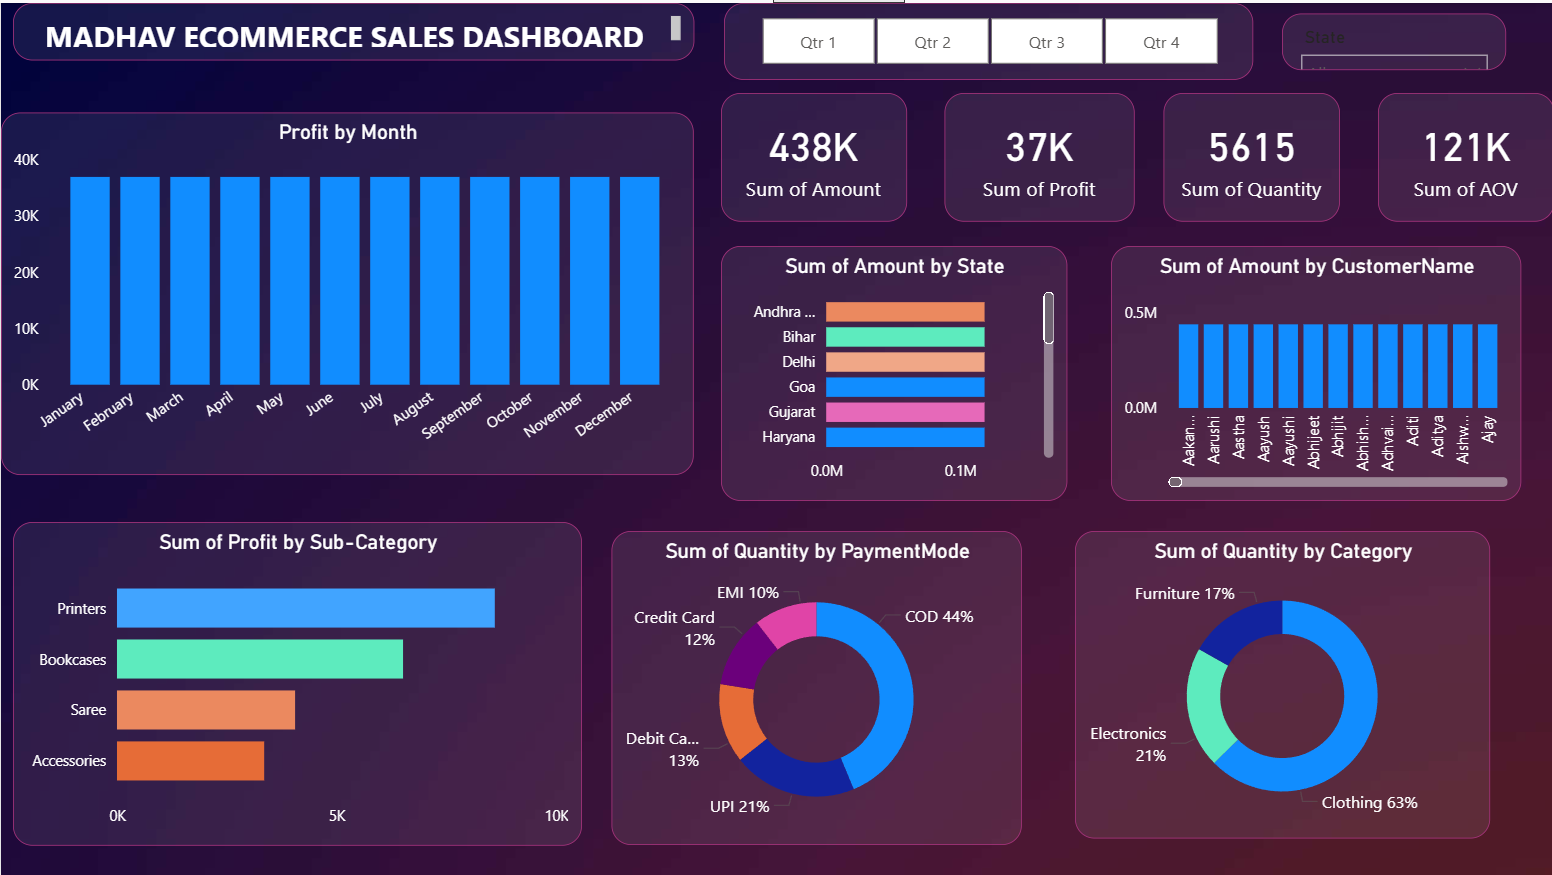

What the dashboard file says about the page in this screenshot:
{"tool":"powerbi","page":{"name":"Page 1","canvas":[1280,720],"ordinal":0},"visuals":[{"type":"textbox","box":[9.4,0,561.3,47.2],"z":0},{"type":"columnChart","title":"Profit by Month","fields":{"Y":["Details.Profit"],"Category":["Orders.Clean data.Variation.Date Hierarchy.Month"]},"box":[0,90.7,570.7,298.6],"z":1000},{"type":"barChart","fields":{"Category":["Details.Sub-Category"],"Y":["Details.Profit"]},"box":[9.4,427.1,468.7,266.5],"z":2000},{"type":"donutChart","fields":{"Category":["Details.Category"],"Y":["Details.Quantity"]},"box":[884.4,434.6,342,253.2],"z":3000},{"type":"donutChart","fields":{"Y":["Details.Quantity"],"Category":["Details.PaymentMode"]},"box":[502.7,434.6,338.3,258.9],"z":4000},{"type":"card","fields":{"Values":["Details.Amount"]},"box":[593.4,73.7,153.1,105.8],"z":5000},{"type":"card","fields":{"Values":["Details.Profit"]},"box":[776.7,73.7,156.9,105.8],"z":6000},{"type":"card","fields":{"Values":["Details.Quantity"]},"box":[958.1,73.7,145.5,105.8],"z":7000},{"type":"card","fields":{"Values":["Details.AOV"]},"box":[1133.9,73.7,145.5,105.8],"z":8000},{"type":"barChart","fields":{"Category":["Orders.State"],"Y":["Details.Amount"]},"box":[593.4,200.3,285.4,209.8],"z":9000},{"type":"columnChart","fields":{"Category":["Orders.CustomerName"],"Y":["Details.Amount"]},"box":[914.7,200.3,338.3,209.8],"z":10000},{"type":"slicer","fields":{"Values":["Orders.Clean data.Variation.Date Hierarchy.Quarter"]},"box":[595.1,0,436.1,63.6],"z":11000},{"type":"slicer","fields":{"Values":["Orders.State"]},"box":[1055.4,9.1,184.7,46.9],"z":12000}]}

Visuals, with their boxes in screenshot pixels (x1, y1, x2, y2), scaled from the page's 1280x720 canvas onto the 1552x875 screenshot:
textbox: 11,0,692,57
"Profit by Month" columnChart: 0,110,692,473
barChart - Details.Sub-Category x Details.Profit: 11,519,580,843
donutChart - Details.Category x Details.Quantity: 1072,528,1487,836
donutChart - Details.Quantity x Details.PaymentMode: 610,528,1020,843
card - Details.Amount: 719,90,905,218
card - Details.Profit: 942,90,1132,218
card - Details.Quantity: 1162,90,1338,218
card - Details.AOV: 1375,90,1551,218
barChart - Orders.State x Details.Amount: 719,243,1066,498
columnChart - Orders.CustomerName x Details.Amount: 1109,243,1519,498
slicer - Orders.Clean data.Variation.Date Hierarchy.Quarter: 722,0,1250,77
slicer - Orders.State: 1280,11,1504,68
